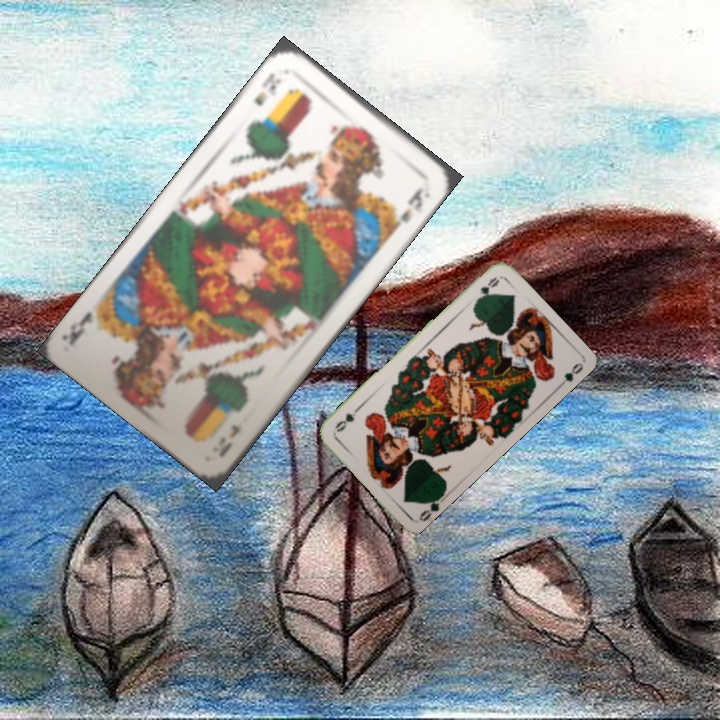EK: (250, 68, 284, 109), (213, 420, 242, 460)
GO: (415, 491, 449, 524), (471, 273, 502, 307)
